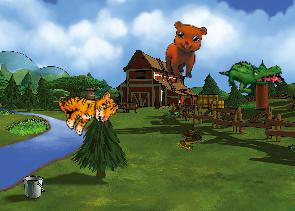bear: (165, 21, 207, 80)
crocodile: (218, 48, 286, 103)
tiger: (52, 74, 122, 142)
